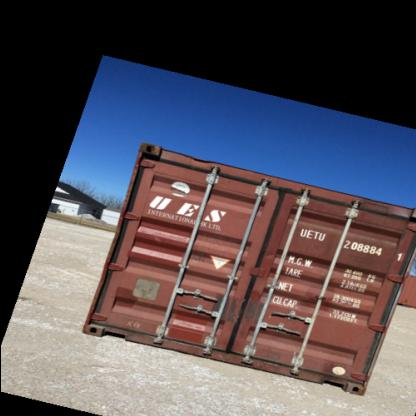Damage: (204, 290, 263, 330), (358, 190, 398, 216), (184, 152, 214, 176), (113, 314, 146, 332), (260, 244, 282, 260), (148, 227, 163, 240)
